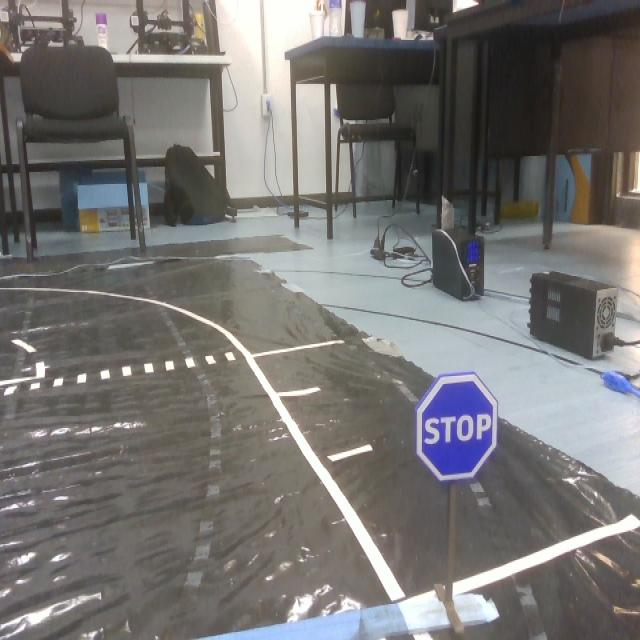no_entry: (423, 374, 501, 490)
